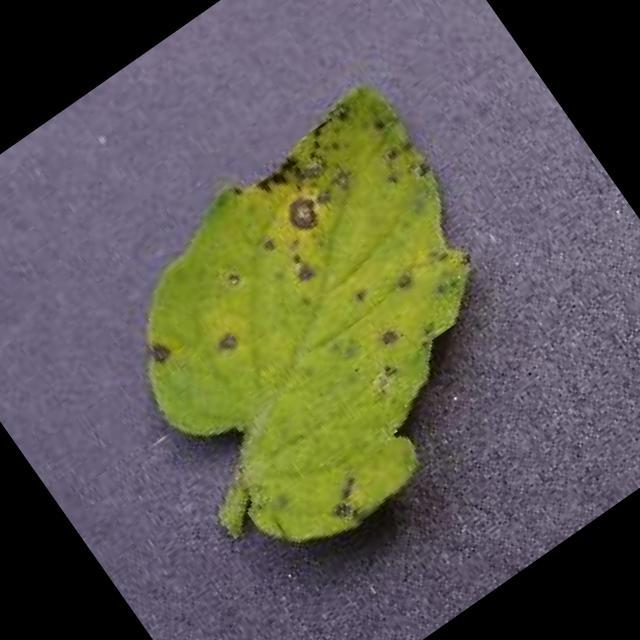Tomato Septoria spot leaf: (70, 71, 580, 582)
